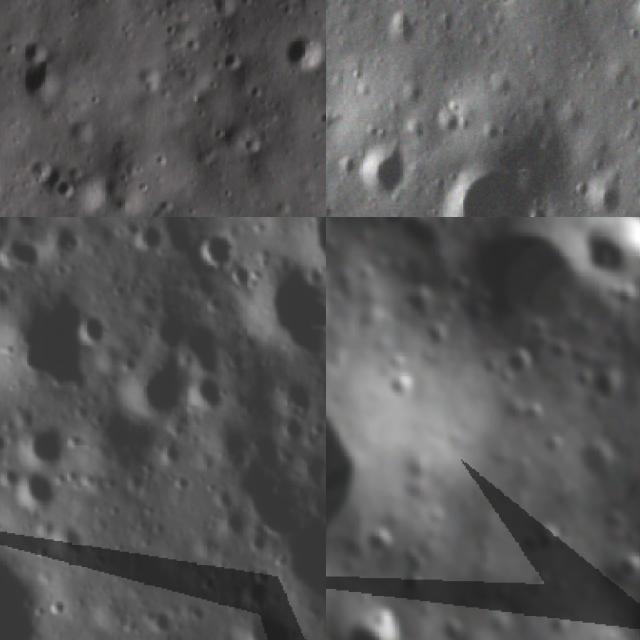crater: (550, 217, 640, 288), (447, 162, 534, 217), (351, 140, 411, 207), (271, 29, 326, 78), (342, 603, 410, 640), (572, 436, 622, 483), (22, 459, 62, 514), (15, 58, 68, 98), (17, 153, 68, 193), (584, 175, 628, 217), (498, 339, 538, 383), (194, 228, 236, 268), (29, 425, 75, 460), (0, 235, 39, 274), (381, 12, 418, 52), (239, 614, 294, 640), (69, 310, 106, 347), (131, 220, 167, 254), (191, 370, 229, 400), (615, 544, 640, 588), (53, 223, 88, 251)
